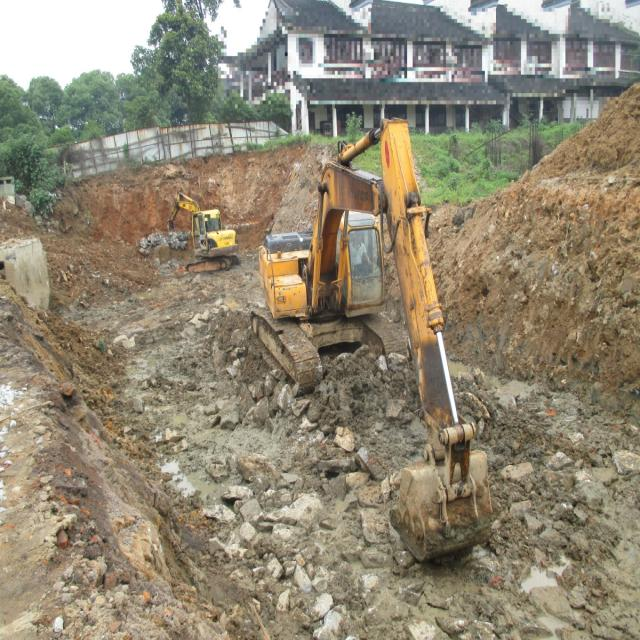excavator: (250, 117, 491, 561), (167, 191, 241, 272)
